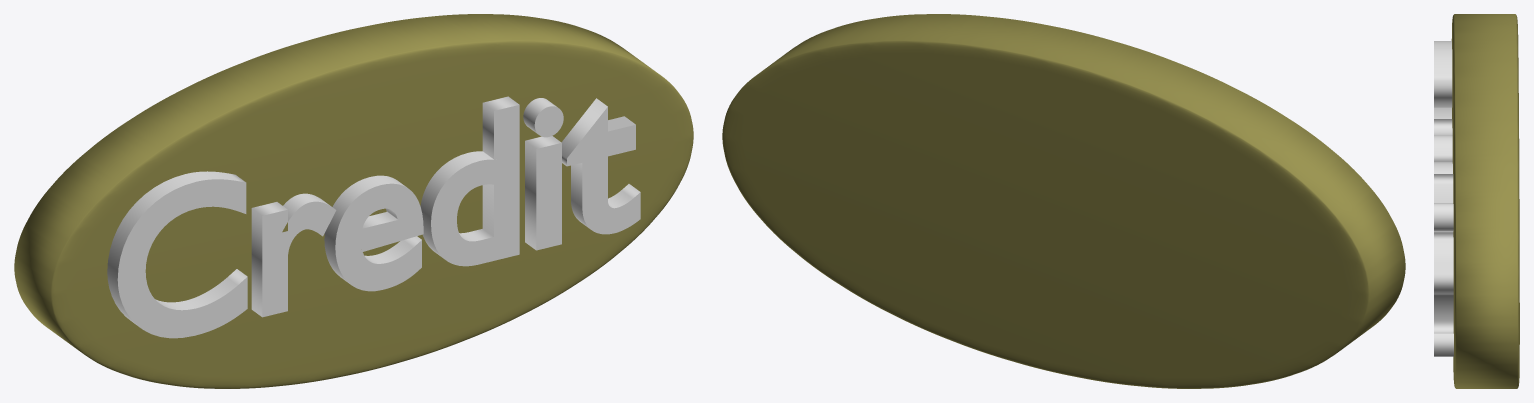
The model's file is credit.glb.
3 renders of one model, left to right at view 1: azimuth 30°, elevation 25°; view 2: azimuth 150°, elevation 25°; view 3: azimuth 270°, elevation 25°, orthographic. The views are drawn at different scales.
Parts seen in each view (by area): view 1: Cylinder, Text; view 2: Cylinder; view 3: Cylinder, Text.
Part boxes in pixels (x1,y1,x2,y2): Cylinder: (14, 14, 693, 388); Text: (107, 96, 640, 338); Cylinder: (722, 14, 1405, 388); Cylinder: (1451, 14, 1519, 388); Text: (1434, 41, 1453, 356).
Bounding box in the file's own units: 2.27 × 1.04 × 0.3077.
